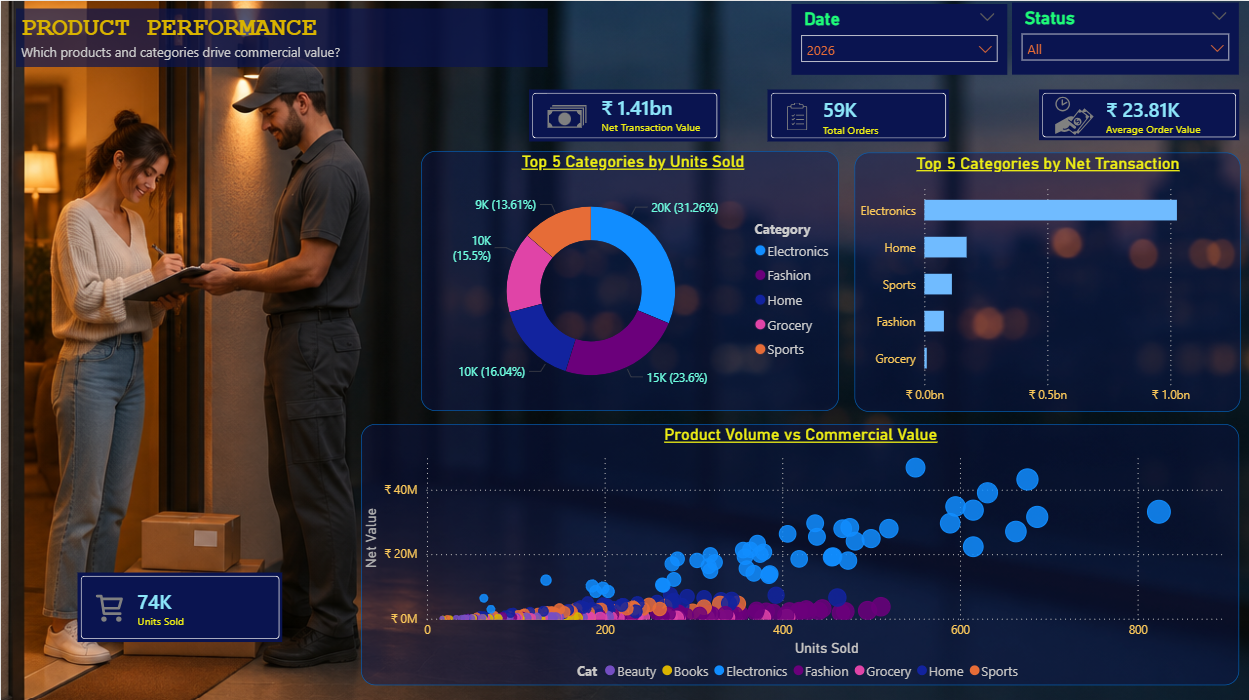

This screenshot's page, from the dashboard's own definition file:
{"tool":"powerbi","page":{"name":"Product Performance","canvas":[1280,720],"ordinal":1},"visuals":[{"type":"textbox","box":[16.1,8.1,545.3,59.9],"z":0},{"type":"cardVisual","fields":{"Data":["_Measure.Net Transaction Value","_Measure.Units Sold","_Measure.Total Orders","_Measure.Average Order Value"]},"box":[4.6,66.9,805.8,68],"z":1000},{"type":"clusteredBarChart","title":"Top 5 Categories by Net Transaction","fields":{"Category":["Dim_Products.category"],"Y":["_Measure.Net Transaction Value"]},"box":[4.6,134.9,412.7,171.8],"z":2000},{"type":"donutChart","title":"Top 5 Categories by Units Sold","fields":{"Category":["Dim_Products.category"],"Y":["_Measure.Units Sold"]},"box":[420.8,134.9,387.3,171.8],"z":3000},{"type":"clusteredColumnChart","title":"Top 5 Products by Net Transaction Value","fields":{"Category":["Dim_Products.product_name"],"Y":["_Measure.Net Transaction Value"]},"box":[810.2,81,464.6,213.6],"z":4000},{"type":"clusteredColumnChart","title":"Bottom 10 Products by Net Transaction Value","fields":{"Y":["_Measure.Net Transaction Value"],"Category":["Dim_Products.product_name"]},"box":[810.2,297.3,464.6,221.8],"z":5000},{"type":"pivotTable","title":"Product Performance by Category","fields":{"Rows":["Dim_Products.category","Dim_Products.product_name"],"Values":["_Measure.Net Transaction Value","_Measure.Units Sold","_Measure.Total Orders","_Measure.Average Selling Price","_Measure.Average Order Value","_Measure.Coupon Discounts"]},"box":[4.2,308.4,803.3,210.2],"z":6000},{"type":"scatterChart","title":"Product Volume vs Commercial Value","fields":{"X":["_Measure.Units Sold"],"Y":["_Measure.Net Transaction Value"],"Size":["_Measure.Total Orders"],"Category":["Dim_Products.product_name"],"Series":["Dim_Products.category"]},"box":[4.2,522.8,635.8,191.6],"z":7000},{"type":"treemap","fields":{"Group":["Dim_Products.category"],"Values":["_Measure.Coupon Discounts"]},"box":[644.2,522.8,630.7,191.6],"z":8000},{"type":"slicer","fields":{"Values":["Dim_Date.Year","Dim_Date.Month"]},"box":[810.2,2.7,221.1,72.8],"z":9000},{"type":"slicer","fields":{"Values":["Fact_Sales.order_status"]},"box":[1037.5,2.3,232.9,73.8],"z":10000}]}

Visuals, with their boxes in screenshot pixels (x1, y1, x2, y2), scaled from the page's 1280x720 canvas onto the 1249x700 screenshot:
textbox: (x1=16, y1=8, x2=548, y2=66)
cardVisual - _Measure.Net Transaction Value x _Measure.Units Sold: (x1=4, y1=65, x2=791, y2=131)
"Top 5 Categories by Net Transaction" clusteredBarChart: (x1=4, y1=131, x2=407, y2=298)
"Top 5 Categories by Units Sold" donutChart: (x1=411, y1=131, x2=789, y2=298)
"Top 5 Products by Net Transaction Value" clusteredColumnChart: (x1=791, y1=79, x2=1244, y2=286)
"Bottom 10 Products by Net Transaction Value" clusteredColumnChart: (x1=791, y1=289, x2=1244, y2=505)
"Product Performance by Category" pivotTable: (x1=4, y1=300, x2=788, y2=504)
"Product Volume vs Commercial Value" scatterChart: (x1=4, y1=508, x2=624, y2=695)
treemap - Dim_Products.category x _Measure.Coupon Discounts: (x1=629, y1=508, x2=1244, y2=695)
slicer - Dim_Date.Year x Dim_Date.Month: (x1=791, y1=3, x2=1006, y2=73)
slicer - Fact_Sales.order_status: (x1=1012, y1=2, x2=1240, y2=74)
